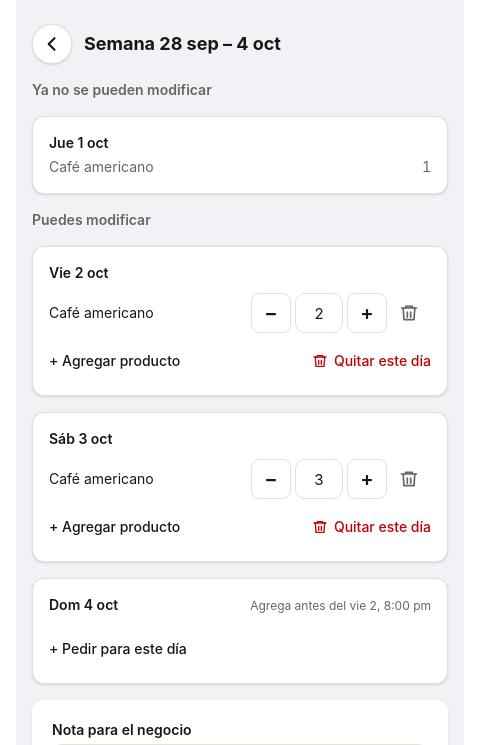
Scenario: modificar pedido › sin cambios el botón de guardar está deshabilitado; con cambios manda solo la fecha que cambió
This screenshot has width=481, height=745.
Step 1. Replace the text in the number field named "Café americano el Sáb 3 oct" with "5" → (319, 479), box [295,459,343,499]
(page scrolled)
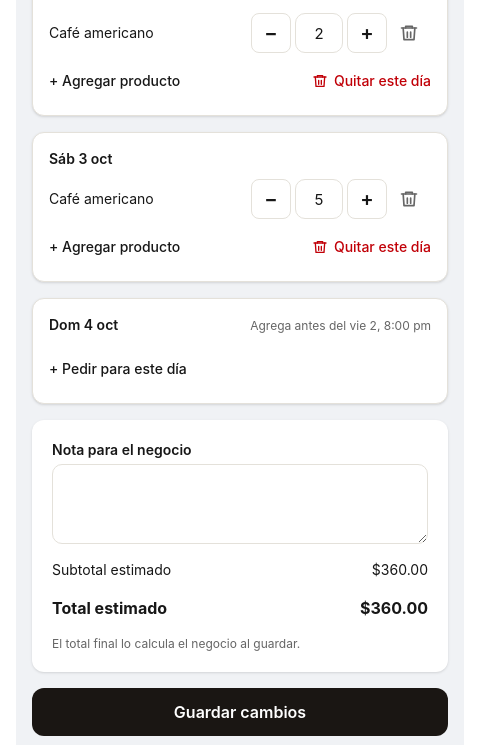
Check: the button "Guardar cambios" is enabled
Step 2. Click the button "Guardar cambios" → (240, 712), box [32,688,448,736]
(page scrolled)
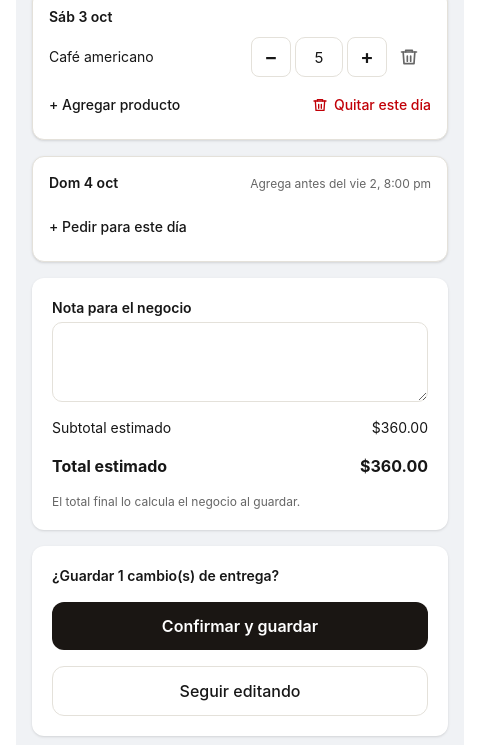
Step 3. Click the button "Confirmar y guardar" → (240, 626), box [52,602,428,650]
(page scrolled)
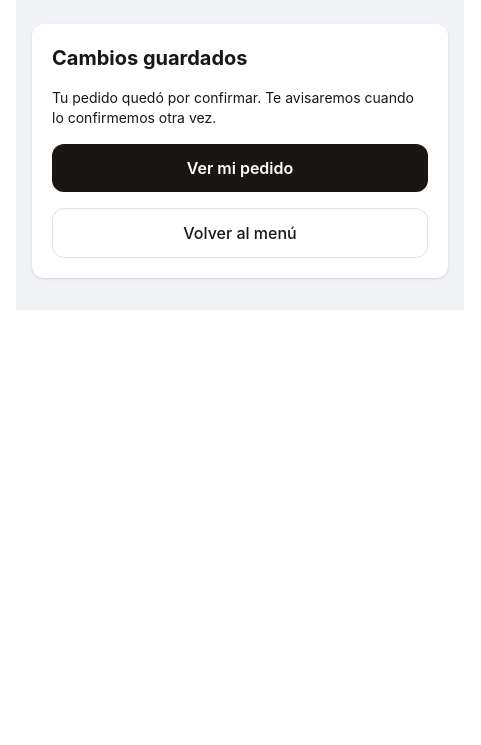
Check: the heading "Cambios guardados" is shown, box [52,46,248,70]
